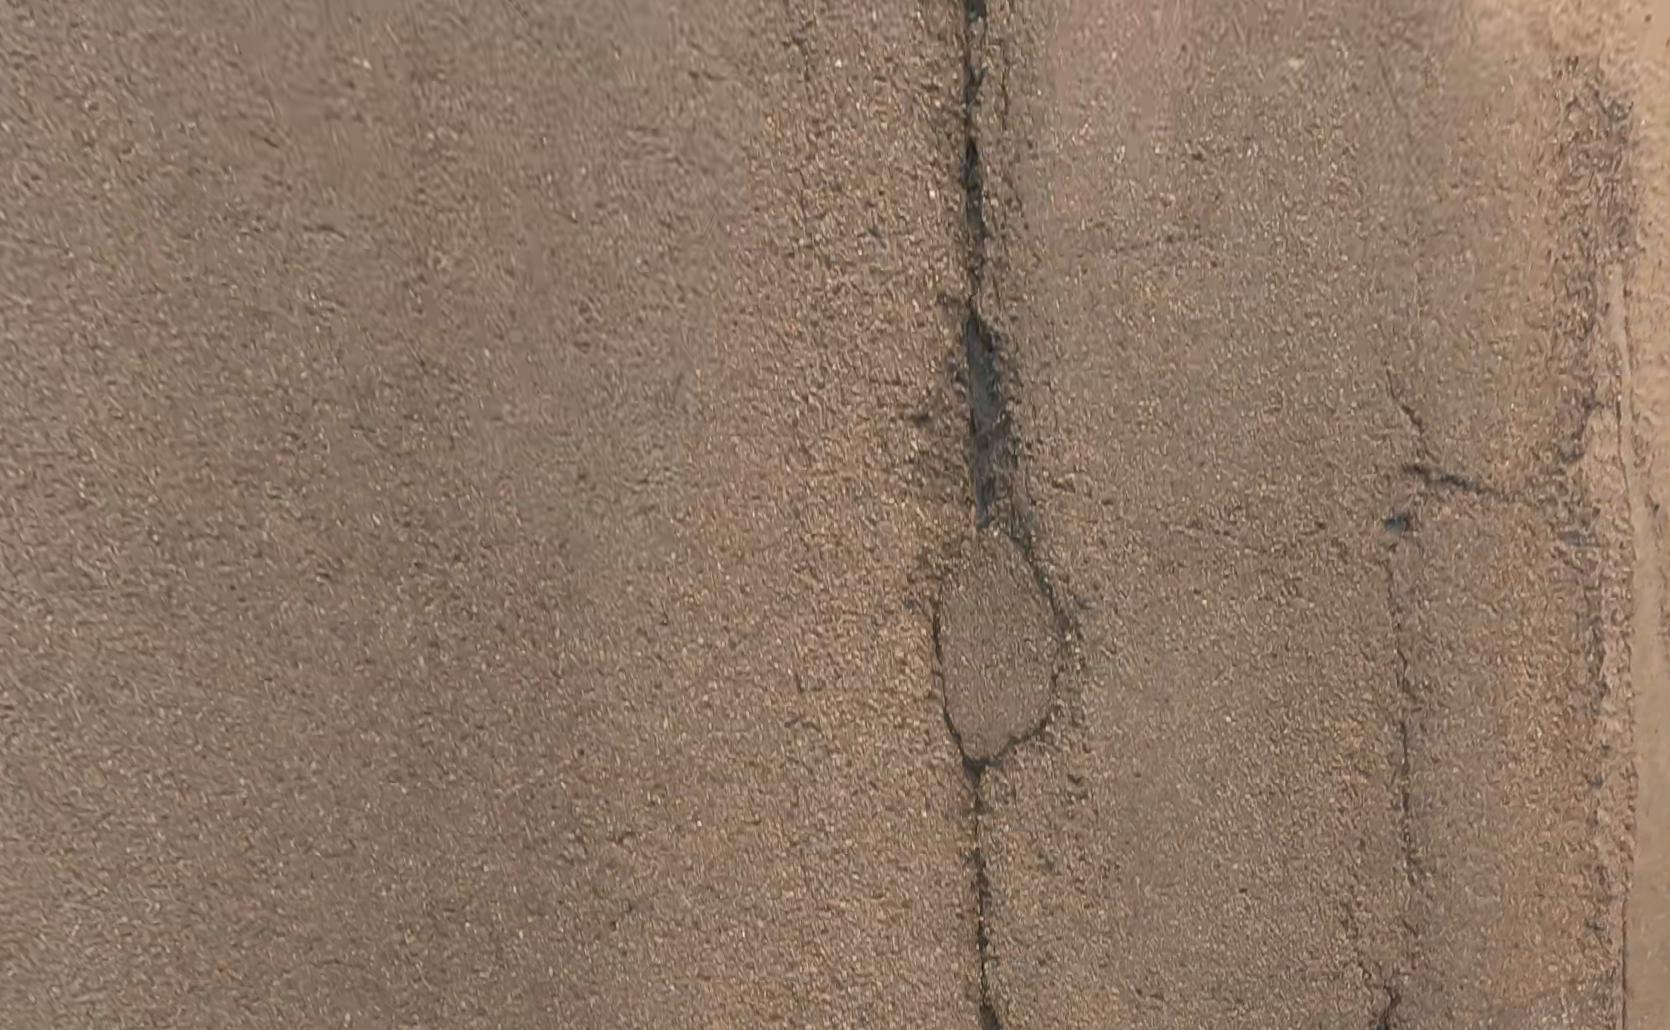pothole: (958, 327, 1016, 548), (1361, 506, 1415, 559)
